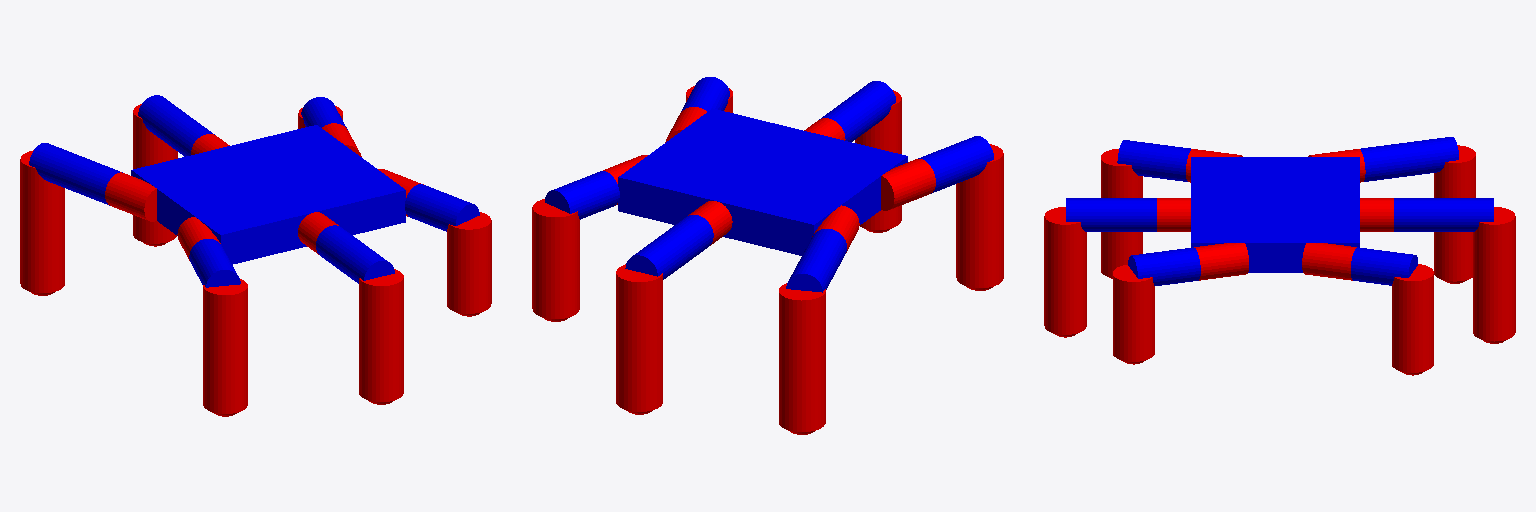
--- Render facts (derived) ---
Views: 3 orthographic renders of the robot side by side, from view 1: azimuth 30°, elevation 25°; view 2: azimuth 150°, elevation 25°; view 3: azimuth 270°, elevation 25°.
Model pexod with 19 links and 18 joints (18 revolute), rooted at base_link, posed every joint at zero.
Visible links, largest first — view 1: base_link, leg_5_3, leg_4_3, leg_0_3, leg_3_3, leg_0_2, leg_4_2, leg_1_3, leg_1_2, leg_3_2, leg_0_1, leg_5_2 (+3 smaller); view 2: base_link, leg_0_3, leg_1_3, leg_5_3, leg_2_3, leg_1_2, leg_0_2, leg_4_2, leg_5_2, leg_2_2, leg_4_3, leg_5_1 (+3 smaller); view 3: base_link, leg_1_3, leg_4_3, leg_2_3, leg_3_3, leg_0_3, leg_1_2, leg_0_2, leg_5_3, leg_4_2, leg_5_2, leg_3_2 (+5 smaller).
Boxes of the visible links, x1,y1,x2,y2 form: base_link: [131, 125, 405, 264]; leg_5_3: [203, 279, 247, 416]; leg_4_3: [359, 269, 403, 404]; leg_0_3: [20, 150, 64, 295]; leg_3_3: [447, 212, 491, 316]; leg_0_2: [29, 143, 122, 205]; leg_4_2: [316, 225, 394, 283]; leg_1_3: [133, 104, 177, 246]; leg_1_2: [138, 95, 214, 156]; leg_3_2: [405, 184, 479, 231]; leg_0_1: [105, 172, 156, 221]; leg_5_2: [189, 239, 240, 287]; base_link: [618, 108, 907, 255]; leg_0_3: [779, 283, 825, 434]; leg_1_3: [616, 264, 662, 414]; leg_5_3: [956, 144, 1003, 290]; leg_2_3: [532, 199, 579, 321]; leg_1_2: [625, 215, 713, 279]; leg_0_2: [786, 229, 846, 292]; leg_4_2: [819, 81, 895, 141]; leg_5_2: [918, 136, 993, 193]; leg_2_2: [545, 171, 619, 219]; leg_4_3: [855, 90, 901, 232]; leg_5_1: [881, 159, 935, 210]; base_link: [1191, 157, 1359, 272]; leg_1_3: [1473, 207, 1515, 343]; leg_4_3: [1044, 207, 1086, 337]; leg_2_3: [1392, 264, 1433, 375]; leg_3_3: [1113, 265, 1154, 364]; leg_0_3: [1434, 145, 1475, 283]; leg_1_2: [1394, 198, 1493, 231]; leg_0_2: [1360, 137, 1458, 181]; leg_5_3: [1101, 149, 1142, 278]; leg_4_2: [1066, 198, 1156, 231]; leg_5_2: [1117, 140, 1190, 181]; leg_3_2: [1128, 247, 1200, 285].
Size in the robot's own frame: 0.3824 by 0.5566 by 0.187 metres.
Geometry: primitives only (box / cylinder / sphere), no mesh files.

URDF robot description (pexod):
<?xml version="1.0" ?>
<!-- =================================================================================== -->
<!-- |    This document was autogenerated by xacro from pexod.xacro                    | -->
<!-- |    EDITING THIS FILE BY HAND IS NOT RECOMMENDED                                 | -->
<!-- =================================================================================== -->
<robot name="pexod" xmlns:xacro="http://www.ros.org/wiki/xacro">
  <!-- <xacro:include filename="$(find pexod_description)/urdf/pexod_control.xacro" /> -->
  <!-- MATERIALS -->
  <material name="Blue">
    <color rgba="0 0 1 1"/>
  </material>
  <material name="Red">
    <color rgba="1 0 0 1"/>
  </material>
  <material name="Green">
    <color rgba="0 1 0 1"/>
  </material>
  <material name="Yellow">
    <color rgba="1 1 0 1"/>
  </material>
  <material name="LightGrey">
    <color rgba="0.6 0.6 0.6 1.0"/>
  </material>
  <!-- END OF MATERIALS -->
  <!-- XACRO MACROS FOR VISUALS AND COLLISIONS -->
  <!-- END OF XACRO MACROS -->
  <!-- TORSO -->
  <link name="base_link">
    <visual>
      <origin rpy="0 0 0" xyz="0 0 0"/>
      <geometry>
        <box size="0.24 0.2 0.04"/>
      </geometry>
      <material name="Blue"/>
    </visual>
    <collision>
      <origin rpy="0 0 0" xyz="0 0 0"/>
      <geometry>
        <box size="0.24 0.2 0.04"/>
      </geometry>
    </collision>
    <inertial>
      <!-- CENTER OF MASS -->
      <origin rpy="0 0 0" xyz="0 0 0"/>
      <mass value="1.031"/>
      <!-- box inertia: 1/12*m(y^2+z^2), ... -->
      <inertia ixx="0.00357413333333" ixy="0" ixz="0" iyy="0.00508626666667" iyz="0" izz="0.00838546666667"/>
    </inertial>
  </link>
  <!-- XACRO MACRO FOR LEGS LINKS/JOINTS -->
  <!-- END OF LEG LINKS/JOINTS -->
  <joint name="body_leg_2" type="revolute">
    <parent link="base_link"/>
    <child link="leg_2_1"/>
    <limit effort="30.0" lower="-1.57079632679" upper="1.57079632679" velocity="7.0"/>
    <origin rpy="0 0 -0.3" xyz="0.11 0.04 0"/>
    <!-- <xacro:if value="${index == 5 or index == 4 or index == 3}">
                <axis xyz="0 0 1"/>
            </xacro:if>
            <xacro:if value="${index == 2 or index == 1 or index == 0}"> -->
    <axis xyz="0 0 1"/>
    <!-- </xacro:if> -->
    <dynamics damping="0.0"/>
  </joint>
  <link name="leg_2_1">
    <visual>
      <origin rpy="1.57079632679 0 0" xyz="0.01 0.03 0"/>
      <geometry>
        <cylinder length="0.06" radius="0.02"/>
      </geometry>
      <material name="Red"/>
    </visual>
    <collision>
      <origin rpy="1.57079632679 0 0" xyz="0.01 0.03 0"/>
      <geometry>
        <box size="0.02 0.02 0.06"/>
      </geometry>
    </collision>
    <inertial>
      <!-- CENTER OF MASS -->
      <origin rpy="1.57079632679 0 0" xyz="0.01 0.03 0"/>
      <mass value="0.02"/>
      <!-- box inertia: 1/12*m(y^2+z^2), ... -->
      <inertia ixx="6.66666666667e-06" ixy="0" ixz="0" iyy="6.66666666667e-06" iyz="0" izz="1.33333333333e-06"/>
    </inertial>
  </link>
  <joint name="leg_2_1_2" type="revolute">
    <parent link="leg_2_1"/>
    <child link="leg_2_2"/>
    <limit effort="30.0" lower="-0.78539816339" upper="0.78539816339" velocity="7.0"/>
    <origin rpy="0 0 0" xyz="0 0.06 0"/>
    <axis xyz="1 0 0"/>
    <dynamics damping="0.0"/>
  </joint>
  <link name="leg_2_2">
    <visual>
      <origin rpy="1.57079632679 0 0" xyz="0.01 0.0357582196227 0"/>
      <geometry>
        <cylinder length="0.0715164392453" radius="0.02"/>
      </geometry>
      <material name="Blue"/>
    </visual>
    <collision>
      <origin rpy="1.57079632679 0 0" xyz="0.01 0.0357582196227 0"/>
      <geometry>
        <box size="0.02 0.02 0.0715164392453"/>
      </geometry>
    </collision>
    <inertial>
      <!-- CENTER OF MASS -->
      <origin rpy="1.57079632679 0 0" xyz="0.01 0.0357582196227 0"/>
      <mass value="0.184"/>
      <!-- box inertia: 1/12*m(y^2+z^2), ... -->
      <inertia ixx="8.45572165957e-05" ixy="0" ixz="0" iyy="8.45572165957e-05" iyz="0" izz="1.22666666667e-05"/>
    </inertial>
  </link>
  <joint name="leg_2_2_3" type="revolute">
    <parent link="leg_2_2"/>
    <child link="leg_2_3"/>
    <limit effort="30.0" lower="-0.78539816339" upper="0.78539816339" velocity="7.0"/>
    <origin rpy="-1.57079632679 0 0" xyz="0 0.0715164392453 0"/>
    <axis xyz="-1 0 0"/>
    <dynamics damping="0.0"/>
  </joint>
  <link name="leg_2_3">
    <visual>
      <origin rpy="1.57079632679 0 0" xyz="0.0125 0.0596330079405 0"/>
      <geometry>
        <cylinder length="0.119266015881" radius="0.025"/>
      </geometry>
      <material name="Red"/>
    </visual>
    <visual>
      <origin rpy="1.57079632679 0 0" xyz="0.0125 0.106766015881 0"/>
      <geometry>
        <sphere radius="0.025"/>
      </geometry>
      <material name="Red"/>
    </visual>
    <collision>
      <origin rpy="1.57079632679 0 0" xyz="0.0125 0.0596330079405 0"/>
      <geometry>
        <box size="0.025 0.025 0.119266015881"/>
      </geometry>
    </collision>
    <collision>
      <origin rpy="1.57079632679 0 0" xyz="0.0125 0.106766015881 0"/>
      <geometry>
        <sphere radius="0.025"/>
      </geometry>
      <material name="Red"/>
    </collision>
    <inertial>
      <!-- CENTER OF MASS -->
      <origin rpy="1.57079632679 0 0" xyz="0.0125 0.0596330079405 0"/>
      <mass value="0.04"/>
      <!-- box inertia: 1/12*m(y^2+z^2), ... -->
      <inertia ixx="4.94979418138e-05" ixy="0" ixz="0" iyy="4.94979418138e-05" iyz="0" izz="4.16666666667e-06"/>
    </inertial>
  </link>
  <joint name="body_leg_3" type="revolute">
    <parent link="base_link"/>
    <child link="leg_3_1"/>
    <limit effort="30.0" lower="-1.57079632679" upper="1.57079632679" velocity="7.0"/>
    <origin rpy="0 0 0.3" xyz="0.11 -0.04 0"/>
    <!-- <xacro:if value="${index == 5 or index == 4 or index == 3}">
                <axis xyz="0 0 1"/>
            </xacro:if>
            <xacro:if value="${index == 2 or index == 1 or index == 0}"> -->
    <axis xyz="0 0 1"/>
    <!-- </xacro:if> -->
    <dynamics damping="0.0"/>
  </joint>
  <link name="leg_3_1">
    <visual>
      <origin rpy="1.57079632679 0 0" xyz="0.01 -0.03 0"/>
      <geometry>
        <cylinder length="0.06" radius="0.02"/>
      </geometry>
      <material name="Red"/>
    </visual>
    <collision>
      <origin rpy="1.57079632679 0 0" xyz="0.01 -0.03 0"/>
      <geometry>
        <box size="0.02 0.02 0.06"/>
      </geometry>
    </collision>
    <inertial>
      <!-- CENTER OF MASS -->
      <origin rpy="1.57079632679 0 0" xyz="0.01 -0.03 0"/>
      <mass value="0.02"/>
      <!-- box inertia: 1/12*m(y^2+z^2), ... -->
      <inertia ixx="6.66666666667e-06" ixy="0" ixz="0" iyy="6.66666666667e-06" iyz="0" izz="1.33333333333e-06"/>
    </inertial>
  </link>
  <joint name="leg_3_1_2" type="revolute">
    <parent link="leg_3_1"/>
    <child link="leg_3_2"/>
    <limit effort="30.0" lower="-0.78539816339" upper="0.78539816339" velocity="7.0"/>
    <origin rpy="0 0 0" xyz="0 -0.06 0"/>
    <axis xyz="-1 0 0"/>
    <dynamics damping="0.0"/>
  </joint>
  <link name="leg_3_2">
    <visual>
      <origin rpy="1.57079632679 0 0" xyz="0.01 -0.0387651557779 0"/>
      <geometry>
        <cylinder length="0.0775303115557" radius="0.02"/>
      </geometry>
      <material name="Blue"/>
    </visual>
    <collision>
      <origin rpy="1.57079632679 0 0" xyz="0.01 -0.0387651557779 0"/>
      <geometry>
        <box size="0.02 0.02 0.0775303115557"/>
      </geometry>
    </collision>
    <inertial>
      <!-- CENTER OF MASS -->
      <origin rpy="1.57079632679 0 0" xyz="0.01 -0.0387651557779 0"/>
      <mass value="0.184"/>
      <!-- box inertia: 1/12*m(y^2+z^2), ... -->
      <inertia ixx="9.83012212188e-05" ixy="0" ixz="0" iyy="9.83012212188e-05" iyz="0" izz="1.22666666667e-05"/>
    </inertial>
  </link>
  <joint name="leg_3_2_3" type="revolute">
    <parent link="leg_3_2"/>
    <child link="leg_3_3"/>
    <limit effort="30.0" lower="-0.78539816339" upper="0.78539816339" velocity="7.0"/>
    <origin rpy="1.57079632679 0 0" xyz="0 -0.0775303115557 0"/>
    <axis xyz="1 0 0"/>
    <dynamics damping="0.0"/>
  </joint>
  <link name="leg_3_3">
    <visual>
      <origin rpy="1.57079632679 0 0" xyz="0.0125 -0.0520622379125 0"/>
      <geometry>
        <cylinder length="0.104124475825" radius="0.025"/>
      </geometry>
      <material name="Red"/>
    </visual>
    <visual>
      <origin rpy="1.57079632679 0 0" xyz="0.0125 -0.091624475825 0"/>
      <geometry>
        <sphere radius="0.025"/>
      </geometry>
      <material name="Red"/>
    </visual>
    <collision>
      <origin rpy="1.57079632679 0 0" xyz="0.0125 -0.0520622379125 0"/>
      <geometry>
        <box size="0.025 0.025 0.104124475825"/>
      </geometry>
    </collision>
    <collision>
      <origin rpy="1.57079632679 0 0" xyz="0.0125 -0.091624475825 0"/>
      <geometry>
        <sphere radius="0.025"/>
      </geometry>
      <material name="Red"/>
    </collision>
    <inertial>
      <!-- CENTER OF MASS -->
      <origin rpy="1.57079632679 0 0" xyz="0.0125 -0.0520622379125 0"/>
      <mass value="0.04"/>
      <!-- box inertia: 1/12*m(y^2+z^2), ... -->
      <inertia ixx="3.82230215528e-05" ixy="0" ixz="0" iyy="3.82230215528e-05" iyz="0" izz="4.16666666667e-06"/>
    </inertial>
  </link>
  <joint name="body_leg_0" type="revolute">
    <parent link="base_link"/>
    <child link="leg_0_1"/>
    <limit effort="30.0" lower="-1.57079632679" upper="1.57079632679" velocity="7.0"/>
    <origin rpy="0 0 0.3" xyz="-0.13 0.04 0"/>
    <!-- <xacro:if value="${index == 5 or index == 4 or index == 3}">
                <axis xyz="0 0 1"/>
            </xacro:if>
            <xacro:if value="${index == 2 or index == 1 or index == 0}"> -->
    <axis xyz="0 0 1"/>
    <!-- </xacro:if> -->
    <dynamics damping="0.0"/>
  </joint>
  <link name="leg_0_1">
    <visual>
      <origin rpy="1.57079632679 0 0" xyz="0.01 0.03 0"/>
      <geometry>
        <cylinder length="0.06" radius="0.02"/>
      </geometry>
      <material name="Red"/>
    </visual>
    <collision>
      <origin rpy="1.57079632679 0 0" xyz="0.01 0.03 0"/>
      <geometry>
        <box size="0.02 0.02 0.06"/>
      </geometry>
    </collision>
    <inertial>
      <!-- CENTER OF MASS -->
      <origin rpy="1.57079632679 0 0" xyz="0.01 0.03 0"/>
      <mass value="0.02"/>
      <!-- box inertia: 1/12*m(y^2+z^2), ... -->
      <inertia ixx="6.66666666667e-06" ixy="0" ixz="0" iyy="6.66666666667e-06" iyz="0" izz="1.33333333333e-06"/>
    </inertial>
  </link>
  <joint name="leg_0_1_2" type="revolute">
    <parent link="leg_0_1"/>
    <child link="leg_0_2"/>
    <limit effort="30.0" lower="-0.78539816339" upper="0.78539816339" velocity="7.0"/>
    <origin rpy="0 0 0" xyz="0 0.06 0"/>
    <axis xyz="1 0 0"/>
    <dynamics damping="0.0"/>
  </joint>
  <link name="leg_0_2">
    <visual>
      <origin rpy="1.57079632679 0 0" xyz="0.01 0.057999430205 0"/>
      <geometry>
        <cylinder length="0.11599886041" radius="0.02"/>
      </geometry>
      <material name="Blue"/>
    </visual>
    <collision>
      <origin rpy="1.57079632679 0 0" xyz="0.01 0.057999430205 0"/>
      <geometry>
        <box size="0.02 0.02 0.11599886041"/>
      </geometry>
    </collision>
    <inertial>
      <!-- CENTER OF MASS -->
      <origin rpy="1.57079632679 0 0" xyz="0.01 0.057999430205 0"/>
      <mass value="0.184"/>
      <!-- box inertia: 1/12*m(y^2+z^2), ... -->
      <inertia ixx="0.000212454612785" ixy="0" ixz="0" iyy="0.000212454612785" iyz="0" izz="1.22666666667e-05"/>
    </inertial>
  </link>
  <joint name="leg_0_2_3" type="revolute">
    <parent link="leg_0_2"/>
    <child link="leg_0_3"/>
    <limit effort="30.0" lower="-0.78539816339" upper="0.78539816339" velocity="7.0"/>
    <origin rpy="-1.57079632679 0 0" xyz="0 0.11599886041 0"/>
    <axis xyz="-1 0 0"/>
    <dynamics damping="0.0"/>
  </joint>
  <link name="leg_0_3">
    <visual>
      <origin rpy="1.57079632679 0 0" xyz="0.0125 0.0772407943505 0"/>
      <geometry>
        <cylinder length="0.154481588701" radius="0.025"/>
      </geometry>
      <material name="Red"/>
    </visual>
    <visual>
      <origin rpy="1.57079632679 0 0" xyz="0.0125 0.141981588701 0"/>
      <geometry>
        <sphere radius="0.025"/>
      </geometry>
      <material name="Red"/>
    </visual>
    <collision>
      <origin rpy="1.57079632679 0 0" xyz="0.0125 0.0772407943505 0"/>
      <geometry>
        <box size="0.025 0.025 0.154481588701"/>
      </geometry>
    </collision>
    <collision>
      <origin rpy="1.57079632679 0 0" xyz="0.0125 0.141981588701 0"/>
      <geometry>
        <sphere radius="0.025"/>
      </geometry>
      <material name="Red"/>
    </collision>
    <inertial>
      <!-- CENTER OF MASS -->
      <origin rpy="1.57079632679 0 0" xyz="0.0125 0.0772407943505 0"/>
      <mass value="0.04"/>
      <!-- box inertia: 1/12*m(y^2+z^2), ... -->
      <inertia ixx="8.16318708253e-05" ixy="0" ixz="0" iyy="8.16318708253e-05" iyz="0" izz="4.16666666667e-06"/>
    </inertial>
  </link>
  <joint name="body_leg_5" type="revolute">
    <parent link="base_link"/>
    <child link="leg_5_1"/>
    <limit effort="30.0" lower="-1.57079632679" upper="1.57079632679" velocity="7.0"/>
    <origin rpy="0 0 -0.3" xyz="-0.13 -0.04 0"/>
    <!-- <xacro:if value="${index == 5 or index == 4 or index == 3}">
                <axis xyz="0 0 1"/>
            </xacro:if>
            <xacro:if value="${index == 2 or index == 1 or index == 0}"> -->
    <axis xyz="0 0 1"/>
    <!-- </xacro:if> -->
    <dynamics damping="0.0"/>
  </joint>
  <link name="leg_5_1">
    <visual>
      <origin rpy="1.57079632679 0 0" xyz="0.01 -0.03 0"/>
      <geometry>
        <cylinder length="0.06" radius="0.02"/>
      </geometry>
      <material name="Red"/>
    </visual>
    <collision>
      <origin rpy="1.57079632679 0 0" xyz="0.01 -0.03 0"/>
      <geometry>
        <box size="0.02 0.02 0.06"/>
      </geometry>
    </collision>
    <inertial>
      <!-- CENTER OF MASS -->
      <origin rpy="1.57079632679 0 0" xyz="0.01 -0.03 0"/>
      <mass value="0.02"/>
      <!-- box inertia: 1/12*m(y^2+z^2), ... -->
      <inertia ixx="6.66666666667e-06" ixy="0" ixz="0" iyy="6.66666666667e-06" iyz="0" izz="1.33333333333e-06"/>
    </inertial>
  </link>
  <joint name="leg_5_1_2" type="revolute">
    <parent link="leg_5_1"/>
    <child link="leg_5_2"/>
    <limit effort="30.0" lower="-0.78539816339" upper="0.78539816339" velocity="7.0"/>
    <origin rpy="0 0 0" xyz="0 -0.06 0"/>
    <axis xyz="-1 0 0"/>
    <dynamics damping="0.0"/>
  </joint>
  <link name="leg_5_2">
    <visual>
      <origin rpy="1.57079632679 0 0" xyz="0.01 -0.0422972111209 0"/>
      <geometry>
        <cylinder length="0.0845944222418" radius="0.02"/>
      </geometry>
      <material name="Blue"/>
    </visual>
    <collision>
      <origin rpy="1.57079632679 0 0" xyz="0.01 -0.0422972111209 0"/>
      <geometry>
        <box size="0.02 0.02 0.0845944222418"/>
      </geometry>
    </collision>
    <inertial>
      <!-- CENTER OF MASS -->
      <origin rpy="1.57079632679 0 0" xyz="0.01 -0.0422972111209 0"/>
      <mass value="0.184"/>
      <!-- box inertia: 1/12*m(y^2+z^2), ... -->
      <inertia ixx="0.000115861982875" ixy="0" ixz="0" iyy="0.000115861982875" iyz="0" izz="1.22666666667e-05"/>
    </inertial>
  </link>
  <joint name="leg_5_2_3" type="revolute">
    <parent link="leg_5_2"/>
    <child link="leg_5_3"/>
    <limit effort="30.0" lower="-0.78539816339" upper="0.78539816339" velocity="7.0"/>
    <origin rpy="1.57079632679 0 0" xyz="0 -0.0845944222418 0"/>
    <axis xyz="1 0 0"/>
    <dynamics damping="0.0"/>
  </joint>
  <link name="leg_5_3">
    <visual>
      <origin rpy="1.57079632679 0 0" xyz="0.0125 -0.0734368148835 0"/>
      <geometry>
        <cylinder length="0.146873629767" radius="0.025"/>
      </geometry>
      <material name="Red"/>
    </visual>
    <visual>
      <origin rpy="1.57079632679 0 0" xyz="0.0125 -0.134373629767 0"/>
      <geometry>
        <sphere radius="0.025"/>
      </geometry>
      <material name="Red"/>
    </visual>
    <collision>
      <origin rpy="1.57079632679 0 0" xyz="0.0125 -0.0734368148835 0"/>
      <geometry>
        <box size="0.025 0.025 0.146873629767"/>
      </geometry>
    </collision>
    <collision>
      <origin rpy="1.57079632679 0 0" xyz="0.0125 -0.134373629767 0"/>
      <geometry>
        <sphere radius="0.025"/>
      </geometry>
      <material name="Red"/>
    </collision>
    <inertial>
      <!-- CENTER OF MASS -->
      <origin rpy="1.57079632679 0 0" xyz="0.0125 -0.0734368148835 0"/>
      <mass value="0.04"/>
      <!-- box inertia: 1/12*m(y^2+z^2), ... -->
      <inertia ixx="7.39895437364e-05" ixy="0" ixz="0" iyy="7.39895437364e-05" iyz="0" izz="4.16666666667e-06"/>
    </inertial>
  </link>
  <joint name="body_leg_1" type="revolute">
    <parent link="base_link"/>
    <child link="leg_1_1"/>
    <limit effort="30.0" lower="-1.57079632679" upper="1.57079632679" velocity="7.0"/>
    <origin rpy="0 0 0" xyz="-0.01 0.08 0"/>
    <!-- <xacro:if value="${index == 5 or index == 4 or index == 3}">
                <axis xyz="0 0 1"/>
            </xacro:if>
            <xacro:if value="${index == 2 or index == 1 or index == 0}"> -->
    <axis xyz="0 0 1"/>
    <!-- </xacro:if> -->
    <dynamics damping="0.0"/>
  </joint>
  <link name="leg_1_1">
    <visual>
      <origin rpy="1.57079632679 0 0" xyz="0.01 0.03 0"/>
      <geometry>
        <cylinder length="0.06" radius="0.02"/>
      </geometry>
      <material name="Red"/>
    </visual>
    <collision>
      <origin rpy="1.57079632679 0 0" xyz="0.01 0.03 0"/>
      <geometry>
        <box size="0.02 0.02 0.06"/>
      </geometry>
    </collision>
    <inertial>
      <!-- CENTER OF MASS -->
      <origin rpy="1.57079632679 0 0" xyz="0.01 0.03 0"/>
      <mass value="0.02"/>
      <!-- box inertia: 1/12*m(y^2+z^2), ... -->
      <inertia ixx="6.66666666667e-06" ixy="0" ixz="0" iyy="6.66666666667e-06" iyz="0" izz="1.33333333333e-06"/>
    </inertial>
  </link>
  <joint name="leg_1_1_2" type="revolute">
    <parent link="leg_1_1"/>
    <child link="leg_1_2"/>
    <limit effort="30.0" lower="-0.78539816339" upper="0.78539816339" velocity="7.0"/>
    <origin rpy="0 0 0" xyz="0 0.06 0"/>
    <axis xyz="1 0 0"/>
    <dynamics damping="0.0"/>
  </joint>
  <link name="leg_1_2">
    <visual>
      <origin rpy="1.57079632679 0 0" xyz="0.01 0.059179638441 0"/>
      <geometry>
        <cylinder length="0.118359276882" radius="0.02"/>
      </geometry>
      <material name="Blue"/>
    </visual>
    <collision>
      <origin rpy="1.57079632679 0 0" xyz="0.01 0.059179638441 0"/>
      <geometry>
        <box size="0.02 0.02 0.118359276882"/>
      </geometry>
    </collision>
    <inertial>
      <!-- CENTER OF MASS -->
      <origin rpy="1.57079632679 0 0" xyz="0.01 0.059179638441 0"/>
      <mass value="0.184"/>
      <!-- box inertia: 1/12*m(y^2+z^2), ... -->
      <inertia ixx="0.000220936749168" ixy="0" ixz="0" iyy="0.000220936749168" iyz="0" izz="1.22666666667e-05"/>
    </inertial>
  </link>
  <joint name="leg_1_2_3" type="revolute">
    <parent link="leg_1_2"/>
    <child link="leg_1_3"/>
    <limit effort="30.0" lower="-0.78539816339" upper="0.78539816339" velocity="7.0"/>
    <origin rpy="-1.57079632679 0 0" xyz="0 0.118359276882 0"/>
    <axis xyz="-1 0 0"/>
    <dynamics damping="0.0"/>
  </joint>
  <link name="leg_1_3">
    <visual>
      <origin rpy="1.57079632679 0 0" xyz="0.0125 0.076082440629 0"/>
      <geometry>
        <cylinder length="0.152164881258" radius="0.025"/>
      </geometry>
      <material name="Red"/>
    </visual>
    <visual>
      <origin rpy="1.57079632679 0 0" xyz="0.0125 0.139664881258 0"/>
      <geometry>
        <sphere radius="0.025"/>
      </geometry>
      <material name="Red"/>
    </visual>
    <collision>
      <origin rpy="1.57079632679 0 0" xyz="0.0125 0.076082440629 0"/>
      <geometry>
        <box size="0.025 0.025 0.152164881258"/>
      </geometry>
    </collision>
    <collision>
      <origin rpy="1.57079632679 0 0" xyz="0.0125 0.139664881258 0"/>
      <geometry>
        <sphere radius="0.025"/>
      </geometry>
      <material name="Red"/>
    </collision>
    <inertial>
      <!-- CENTER OF MASS -->
      <origin rpy="1.57079632679 0 0" xyz="0.0125 0.076082440629 0"/>
      <mass value="0.04"/>
      <!-- box inertia: 1/12*m(y^2+z^2), ... -->
      <inertia ixx="7.92638369609e-05" ixy="0" ixz="0" iyy="7.92638369609e-05" iyz="0" izz="4.16666666667e-06"/>
    </inertial>
  </link>
  <joint name="body_leg_4" type="revolute">
    <parent link="base_link"/>
    <child link="leg_4_1"/>
    <limit effort="30.0" lower="-1.57079632679" upper="1.57079632679" velocity="7.0"/>
    <origin rpy="0 0 0" xyz="-0.01 -0.08 0"/>
    <!-- <xacro:if value="${index == 5 or index == 4 or index == 3}">
                <axis xyz="0 0 1"/>
            </xacro:if>
            <xacro:if value="${index == 2 or index == 1 or index == 0}"> -->
    <axis xyz="0 0 1"/>
    <!-- </xacro:if> -->
    <dynamics damping="0.0"/>
  </joint>
  <link name="leg_4_1">
    <visual>
      <origin rpy="1.57079632679 0 0" xyz="0.01 -0.03 0"/>
      <geometry>
        <cylinder length="0.06" radius="0.02"/>
      </geometry>
      <material name="Red"/>
    </visual>
    <collision>
      <origin rpy="1.57079632679 0 0" xyz="0.01 -0.03 0"/>
      <geometry>
        <box size="0.02 0.02 0.06"/>
      </geometry>
    </collision>
    <inertial>
      <!-- CENTER OF MASS -->
      <origin rpy="1.57079632679 0 0" xyz="0.01 -0.03 0"/>
      <mass value="0.02"/>
      <!-- box inertia: 1/12*m(y^2+z^2), ... -->
      <inertia ixx="6.66666666667e-06" ixy="0" ixz="0" iyy="6.66666666667e-06" iyz="0" izz="1.33333333333e-06"/>
    </inertial>
  </link>
  <joint name="leg_4_1_2" type="revolute">
    <parent link="leg_4_1"/>
    <child link="leg_4_2"/>
    <limit effort="30.0" lower="-0.78539816339" upper="0.78539816339" velocity="7.0"/>
    <origin rpy="0 0 0" xyz="0 -0.06 0"/>
    <axis xyz="-1 0 0"/>
    <dynamics damping="0.0"/>
  </joint>
  <link name="leg_4_2">
    <visual>
      <origin rpy="1.57079632679 0 0" xyz="0.01 -0.054100603519 0"/>
      <geometry>
        <cylinder length="0.108201207038" radius="0.02"/>
      </geometry>
      <material name="Blue"/>
    </visual>
    <collision>
      <origin rpy="1.57079632679 0 0" xyz="0.01 -0.054100603519 0"/>
      <geometry>
        <box size="0.02 0.02 0.108201207038"/>
      </geometry>
    </collision>
    <inertial>
      <!-- CENTER OF MASS -->
      <origin rpy="1.57079632679 0 0" xyz="0.01 -0.054100603519 0"/>
      <mass value="0.184"/>
      <!-- box inertia: 1/12*m(y^2+z^2), ... -->
      <inertia ixx="0.000185648351802" ixy="0" ixz="0" iyy="0.000185648351802" iyz="0" izz="1.22666666667e-05"/>
    </inertial>
  </link>
  <joint name="leg_4_2_3" type="revolute">
    <parent link="leg_4_2"/>
    <child link="leg_4_3"/>
    <limit effort="30.0" lower="-0.78539816339" upper="0.78539816339" velocity="7.0"/>
    <origin rpy="1.57079632679 0 0" xyz="0 -0.108201207038 0"/>
    <axis xyz="1 0 0"/>
    <dynamics damping="0.0"/>
  </joint>
  <link name="leg_4_3">
    <visual>
      <origin rpy="1.57079632679 0 0" xyz="0.0125 -0.0718146828745 0"/>
      <geometry>
        <cylinder length="0.143629365749" radius="0.025"/>
      </geometry>
      <material name="Red"/>
    </visual>
    <visual>
      <origin rpy="1.57079632679 0 0" xyz="0.0125 -0.131129365749 0"/>
      <geometry>
        <sphere radius="0.025"/>
      </geometry>
      <material name="Red"/>
    </visual>
    <collision>
      <origin rpy="1.57079632679 0 0" xyz="0.0125 -0.0718146828745 0"/>
      <geometry>
        <box size="0.025 0.025 0.143629365749"/>
      </geometry>
    </collision>
    <collision>
      <origin rpy="1.57079632679 0 0" xyz="0.0125 -0.131129365749 0"/>
      <geometry>
        <sphere radius="0.025"/>
      </geometry>
      <material name="Red"/>
    </collision>
    <inertial>
      <!-- CENTER OF MASS -->
      <origin rpy="1.57079632679 0 0" xyz="0.0125 -0.0718146828745 0"/>
      <mass value="0.04"/>
      <!-- box inertia: 1/12*m(y^2+z^2), ... -->
      <inertia ixx="7.08479823515e-05" ixy="0" ixz="0" iyy="7.08479823515e-05" iyz="0" izz="4.16666666667e-06"/>
    </inertial>
  </link>
  <!-- END OF LEG LINKS/JOINTS -->
</robot>
